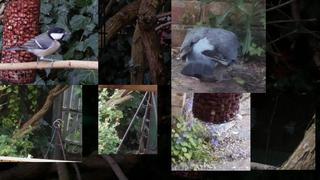great tit: (4, 27, 72, 68)
wood pigeon: (179, 27, 239, 84)
